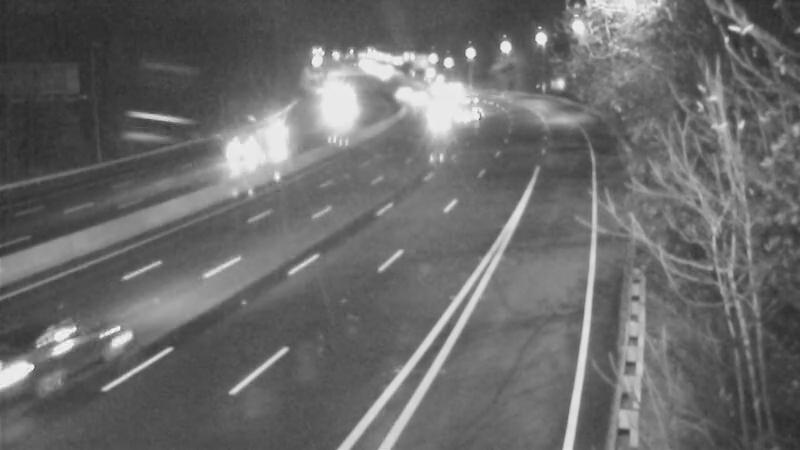vehicle: (179, 95, 289, 205), (1, 307, 98, 417), (407, 62, 457, 112), (438, 63, 488, 113), (373, 68, 423, 118), (420, 72, 470, 122), (391, 76, 441, 126), (426, 86, 476, 136), (407, 85, 457, 135), (252, 111, 302, 161)
